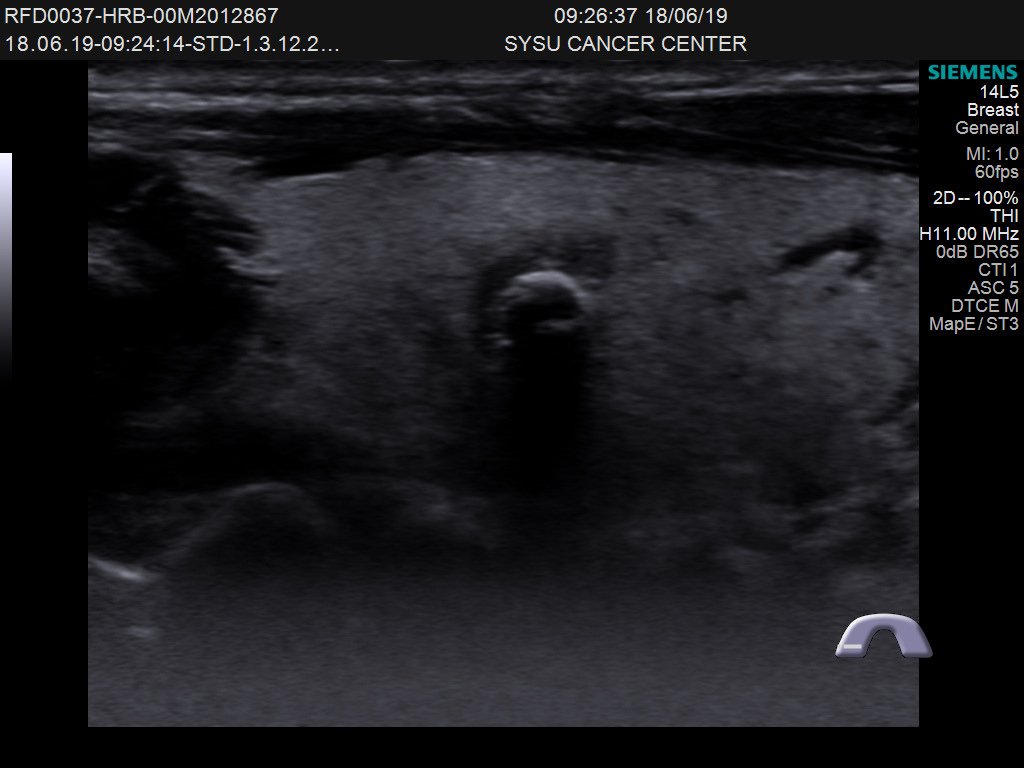Thyroid_tumor: (467, 208, 636, 351)
